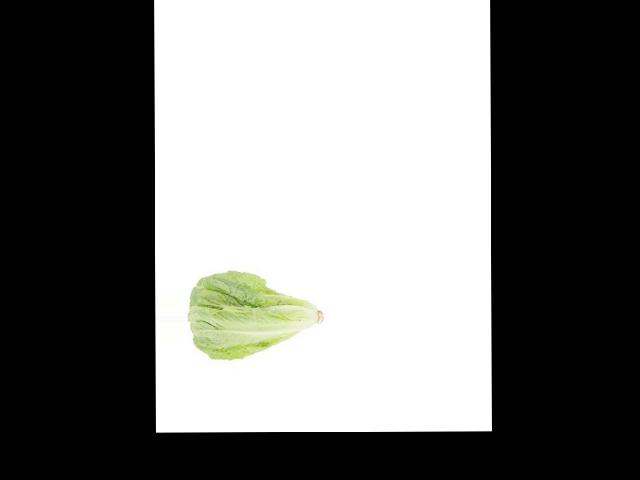lettuce: (189, 274, 328, 360)
